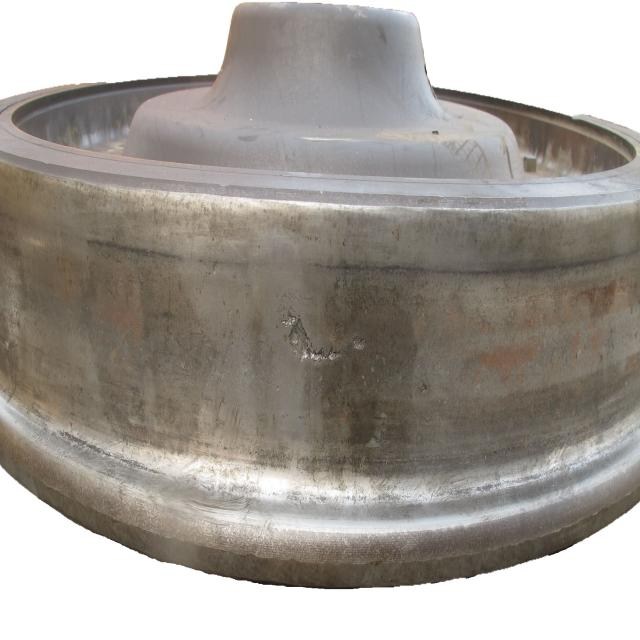Peeling: (282, 312, 367, 365)
